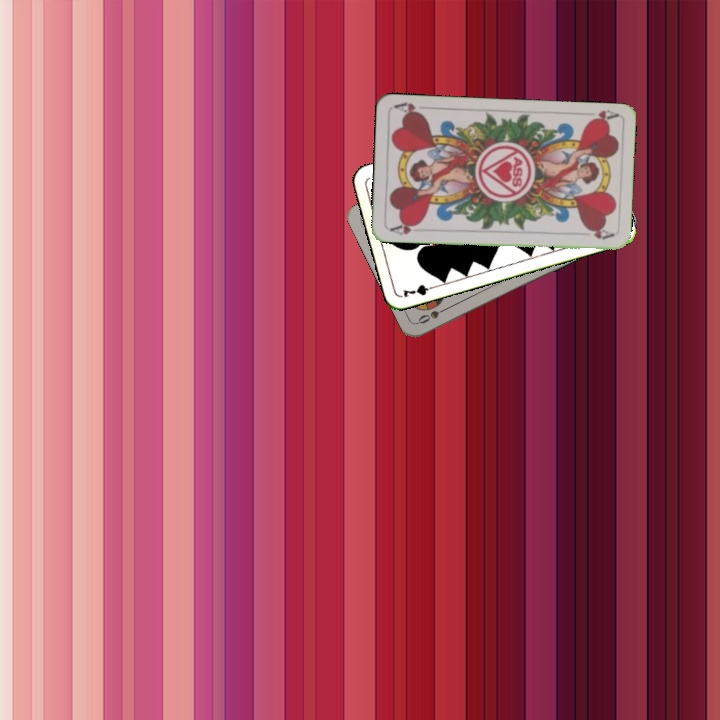G7: (399, 280, 439, 300)
HA: (579, 106, 620, 126), (386, 218, 424, 237)
SO: (414, 302, 452, 326)
